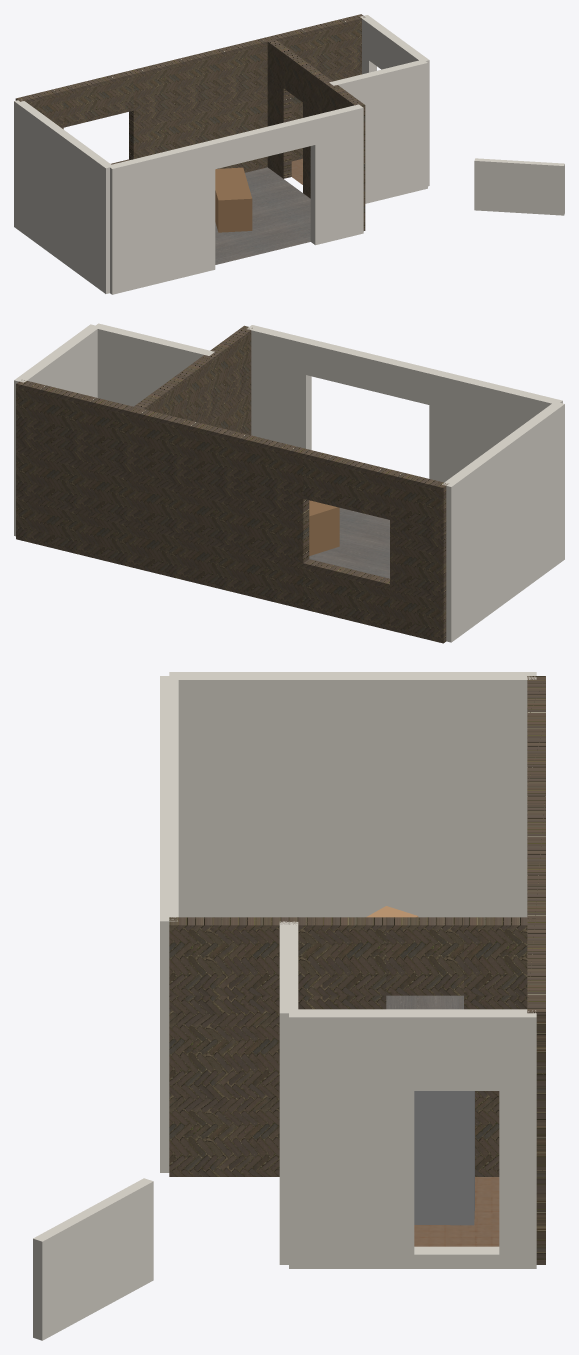
The picture shows the model from 3 angles, top to bottom: view 1: azimuth 30°, elevation 25°; view 2: azimuth 150°, elevation 25°; view 3: azimuth 270°, elevation 25°; orthographic projection. The views are drawn at different scales.
Visible parts, largest first — view 1: wal_south, wal_north, wal_west, wal_study-south, wal_partition, rom_living, wal_diagonal, wal_east, obj_design-table; view 2: wal_north, wal_west, wal_south, wal_partition, wal_study-south, wal_east, rom_living, obj_design-table; view 3: wal_west, wal_partition, wal_east, wal_diagonal, wal_north, obj_unknown-ref, wal_south, wal_study-south, rom_study, rom_living.
Part boxes in pixels (<box>): wal_south: <box>108,104,363,294</box>; wal_north: <box>15,14,365,172</box>; wal_west: <box>14,99,112,293</box>; wal_study-south: <box>329,59,427,203</box>; wal_partition: <box>267,39,365,230</box>; rom_living: <box>215,167,310,264</box>; wal_diagonal: <box>474,158,564,215</box>; wal_east: <box>360,15,429,186</box>; obj_design-table: <box>215,167,252,232</box>; wal_north: <box>16,380,448,643</box>; wal_west: <box>442,401,564,642</box>; wal_south: <box>247,325,562,482</box>; wal_partition: <box>132,325,252,435</box>; wal_study-south: <box>93,323,214,406</box>; wal_east: <box>14,324,99,536</box>; rom_living: <box>309,508,389,578</box>; obj_design-table: <box>309,500,339,555</box>; wal_west: <box>169,672,536,917</box>; wal_partition: <box>169,917,535,1176</box>; wal_east: <box>289,1009,536,1268</box>; wal_diagonal: <box>33,1178,153,1340</box>; wal_north: <box>527,676,545,1264</box>; obj_unknown-ref: <box>414,1091,474,1225</box>; wal_south: <box>160,676,178,1172</box>; wal_study-south: <box>279,921,298,1264</box>; rom_study: <box>414,1177,499,1246</box>; rom_living: <box>386,995,463,1009</box>.
Bounding box in the file's own units: 10.56 × 2.97 × 5.49.
7 materials, 3 textured.
